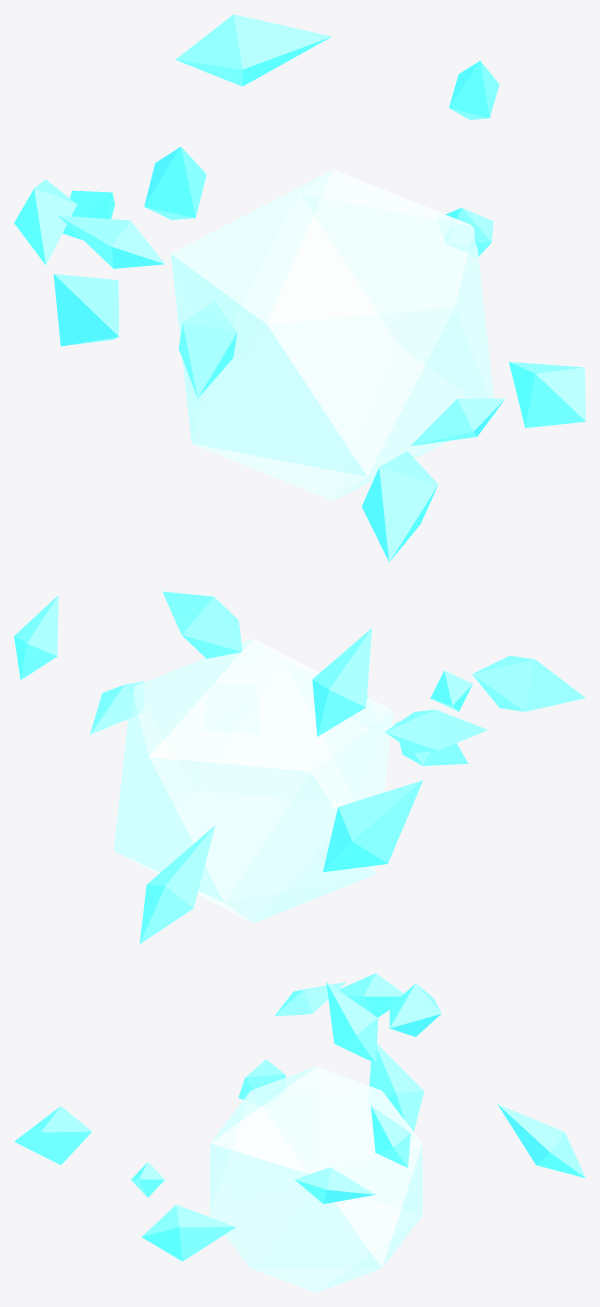
File: fx_death_f.glb
The picture shows the model from 3 angles, top to bottom: view 1: azimuth 30°, elevation 25°; view 2: azimuth 150°, elevation 25°; view 3: azimuth 270°, elevation 25°; orthographic projection. The views are drawn at different scales.
Parts seen in each view (by area): view 1: fx_death_f; view 2: fx_death_f; view 3: fx_death_f.
Boxes of the visible parts, <box> form: fx_death_f: <box>14,14,585,562</box>; fx_death_f: <box>14,591,585,943</box>; fx_death_f: <box>14,973,585,1292</box>.
Size of the model in its own units: 1.43 by 1.19 by 2.06.
